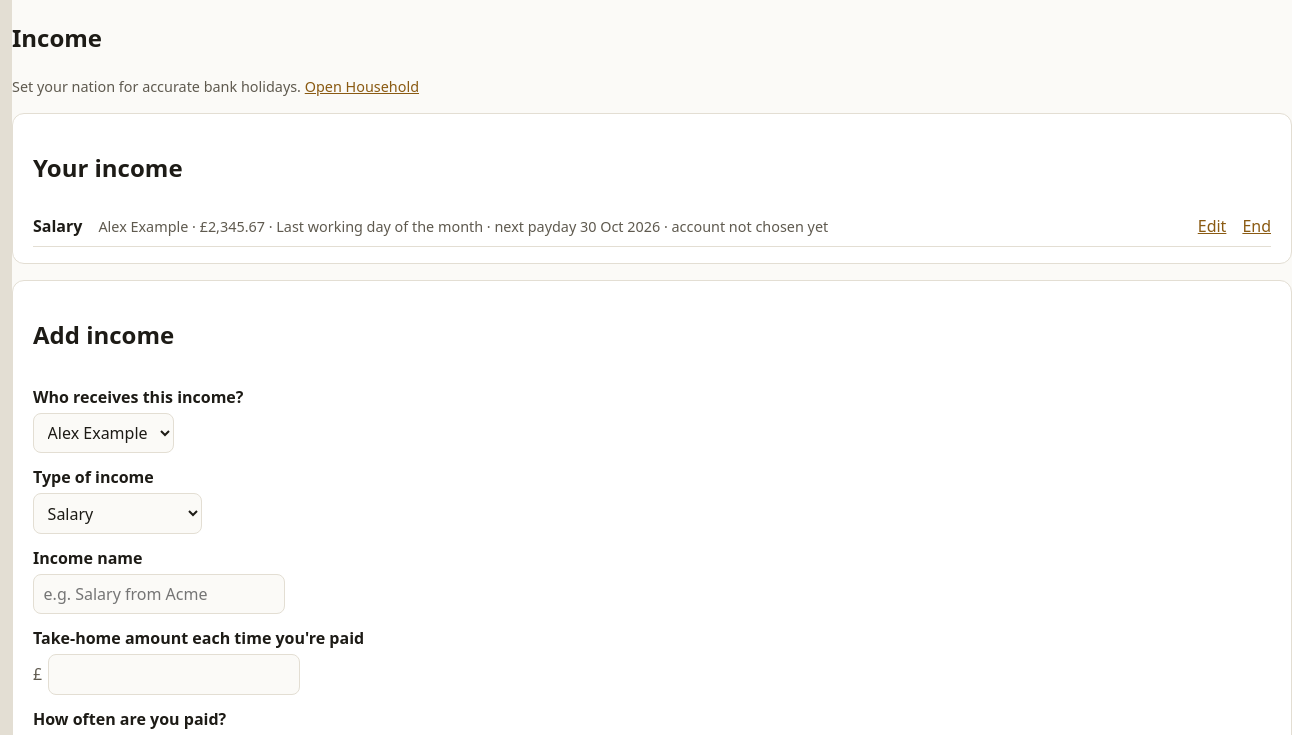
Test: lists income, nudges for the nation and ends an income
Expected: the text "Alex Example · £2,345.67 · Last working day of the month · next payday 30 Oct 2026" is shown, [98,217,828,236]
Expected: the text "Set your nation for accurate bank holidays." is shown, [12,77,301,96]
Click the button with aria-label "End Salary" at (1257, 226), box [1242,214,1271,238]
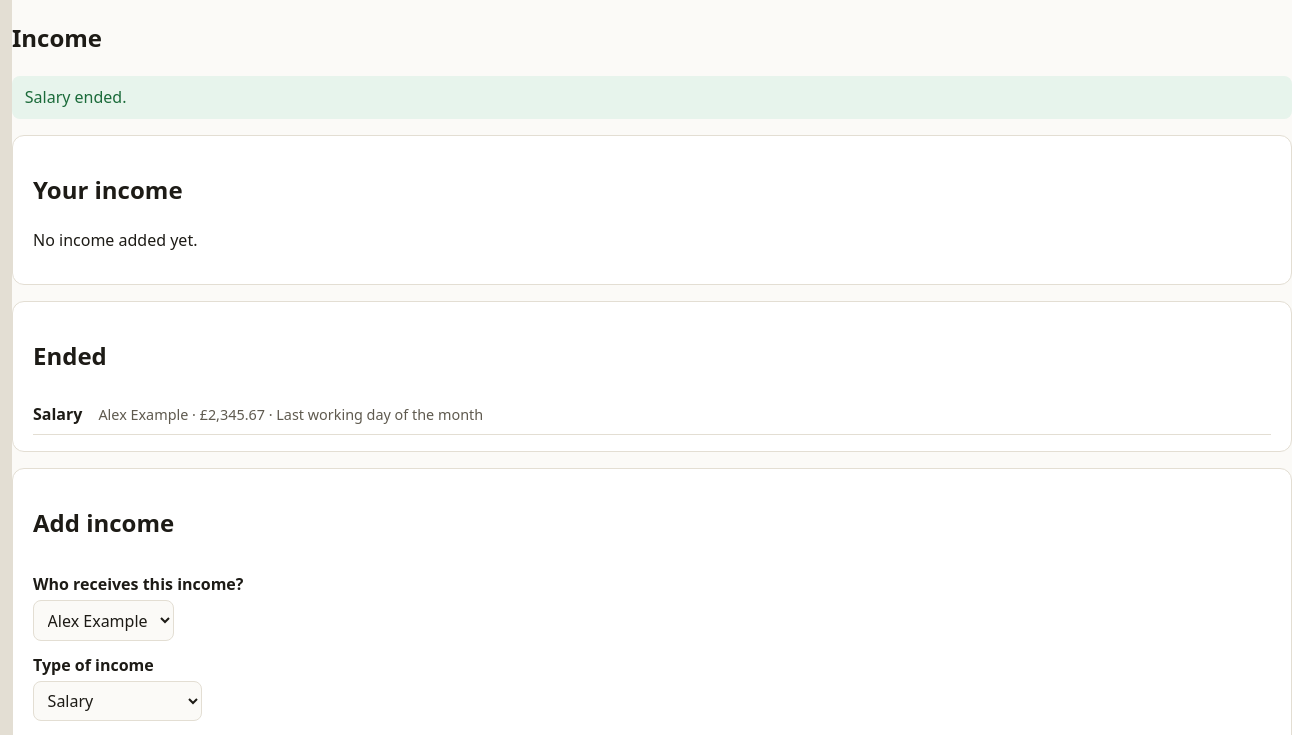
Result: the heading "Ended" is shown at [33,339,107,372]
